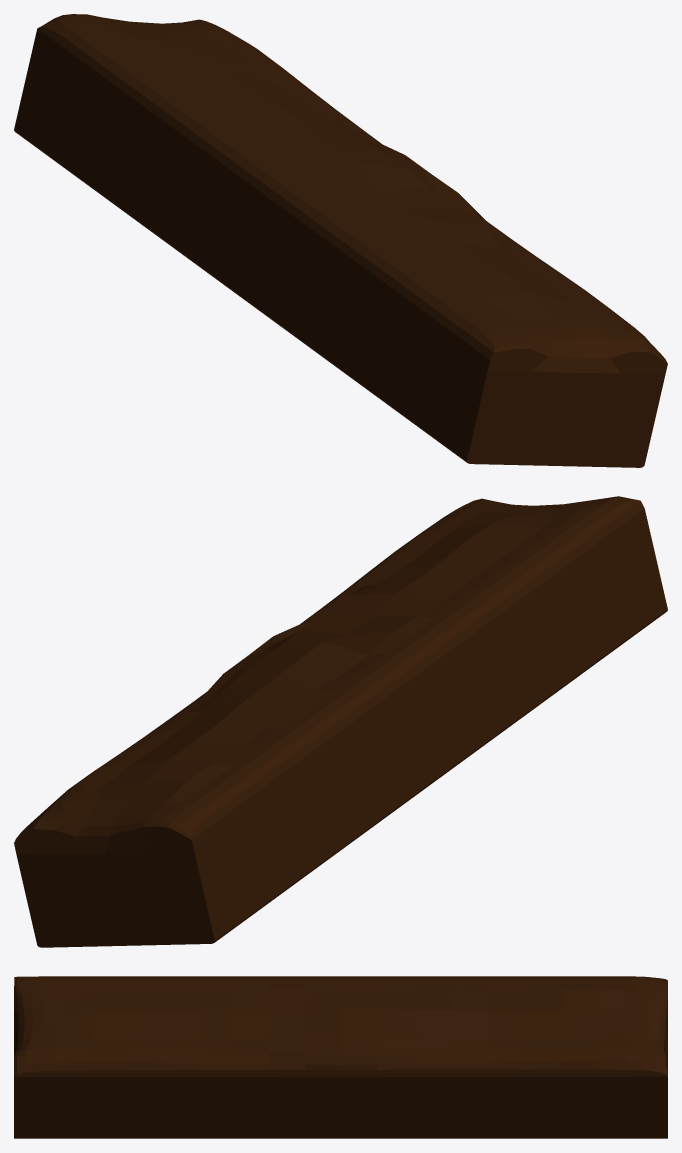
File: bounty.glb
3 renders of one model, top to bottom at view 1: azimuth 30°, elevation 25°; view 2: azimuth 150°, elevation 25°; view 3: azimuth 270°, elevation 25°, orthographic. The views are drawn at different scales.
Visible parts, largest first — view 1: bounty; view 2: bounty; view 3: bounty.
Boxes of the visible parts, <box> form: bounty: <box>14,14,667,467</box>; bounty: <box>14,496,667,947</box>; bounty: <box>14,976,667,1138</box>.
Bounding box in the file's own units: 0.0135 × 0.0101 × 0.0527.
